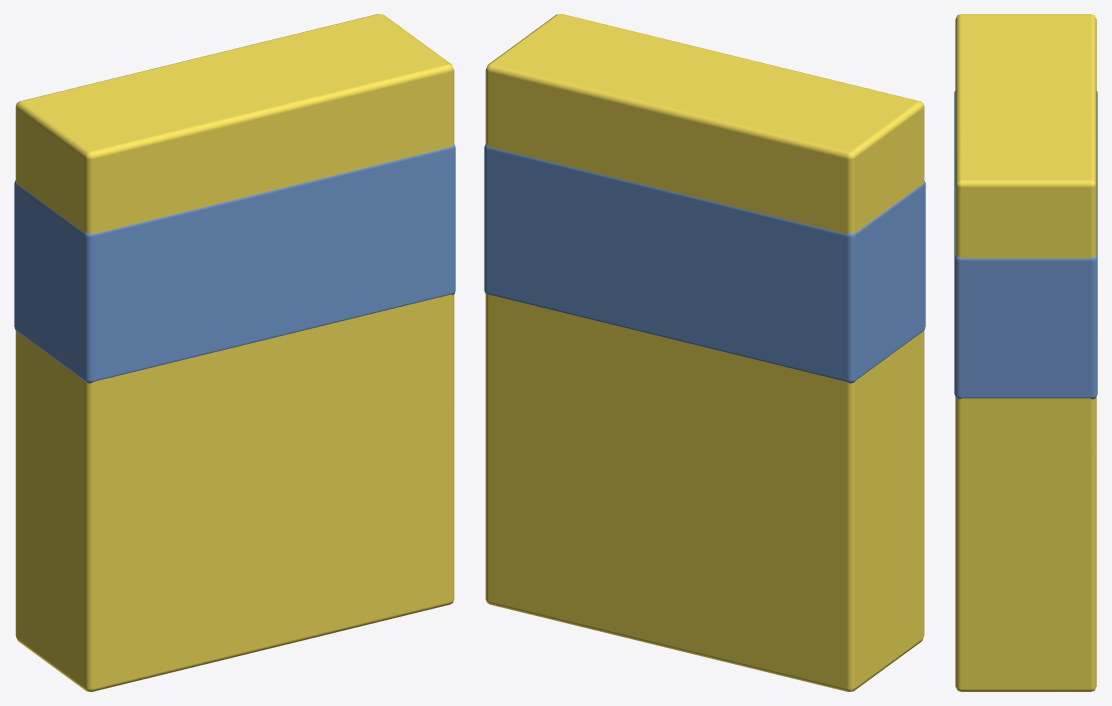
Rendered from SM_SnackBox.fbx.
3 renders of one model, left to right at view 1: azimuth 30°, elevation 25°; view 2: azimuth 150°, elevation 25°; view 3: azimuth 270°, elevation 25°, orthographic. The views are drawn at different scales.
Visible parts, largest first — view 1: SM_SnackBox; view 2: SM_SnackBox; view 3: SM_SnackBox.
Part boxes in pixels (x1,y1,x2,y2): SM_SnackBox: (14, 14, 455, 691); SM_SnackBox: (484, 14, 925, 691); SM_SnackBox: (954, 14, 1097, 691).
Size of the model in its own units: 0.201 by 0.28 by 0.071.
